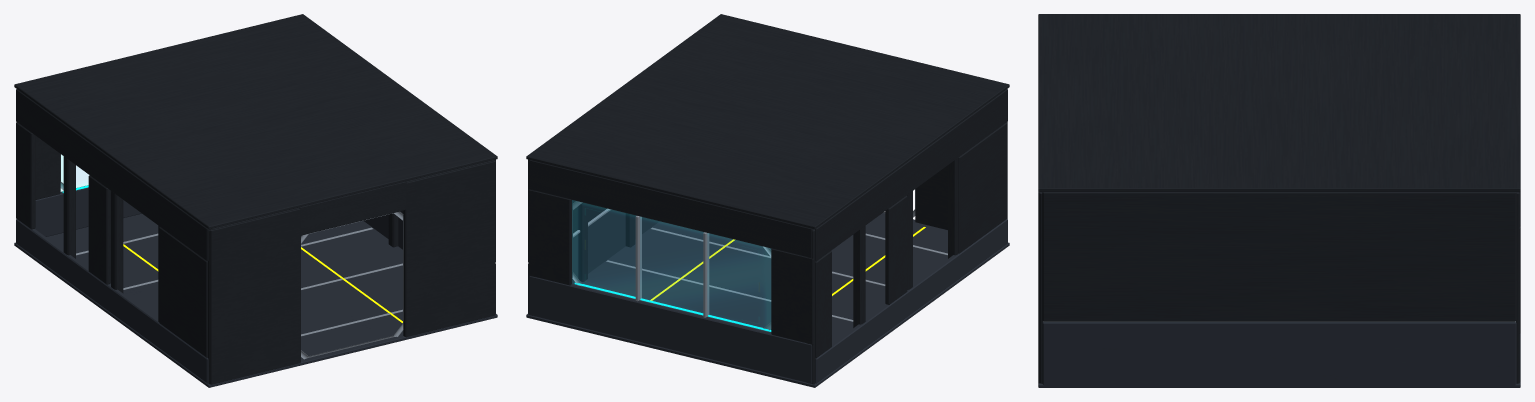
Rendered from room_01_shell.glb.
3 renders of one model, left to right at view 1: azimuth 30°, elevation 25°; view 2: azimuth 150°, elevation 25°; view 3: azimuth 270°, elevation 25°, orthographic. The views are drawn at different scales.
Parts seen in each view (by area): view 1: Room01_OctagonalGunmetalRibsAndWalls, Room01_CarbonSlateDeckAndWainscot, Room01_MachinedSteelBezelsAndDeckStrips; view 2: Room01_OctagonalGunmetalRibsAndWalls, Room01_CarbonSlateDeckAndWainscot, Room01_NorthPanoramicTranslucentGlass, Room01_MachinedSteelBezelsAndDeckStrips, Room01_OrbitalCyanCovesAndWindowRim; view 3: Room01_OctagonalGunmetalRibsAndWalls, Room01_CarbonSlateDeckAndWainscot, Room01_MachinedSteelBezelsAndDeckStrips.
Part boxes in pixels (left/top/right/bottom): Room01_OctagonalGunmetalRibsAndWalls: left=14, top=14, right=497, bottom=384; Room01_CarbonSlateDeckAndWainscot: left=14, top=185, right=497, bottom=387; Room01_MachinedSteelBezelsAndDeckStrips: left=60, top=154, right=403, bottom=359; Room01_OctagonalGunmetalRibsAndWalls: left=526, top=14, right=1009, bottom=384; Room01_CarbonSlateDeckAndWainscot: left=526, top=209, right=1009, bottom=387; Room01_NorthPanoramicTranslucentGlass: left=572, top=200, right=770, bottom=331; Room01_MachinedSteelBezelsAndDeckStrips: left=572, top=189, right=947, bottom=331; Room01_OrbitalCyanCovesAndWindowRim: left=574, top=282, right=771, bottom=331; Room01_OctagonalGunmetalRibsAndWalls: left=1038, top=14, right=1520, bottom=383; Room01_CarbonSlateDeckAndWainscot: left=1038, top=322, right=1520, bottom=387; Room01_MachinedSteelBezelsAndDeckStrips: left=1043, top=321, right=1515, bottom=322.
Size of the model in its own units: 6 by 3.2 by 7.
Materials: 7 (7 with a texture image).
